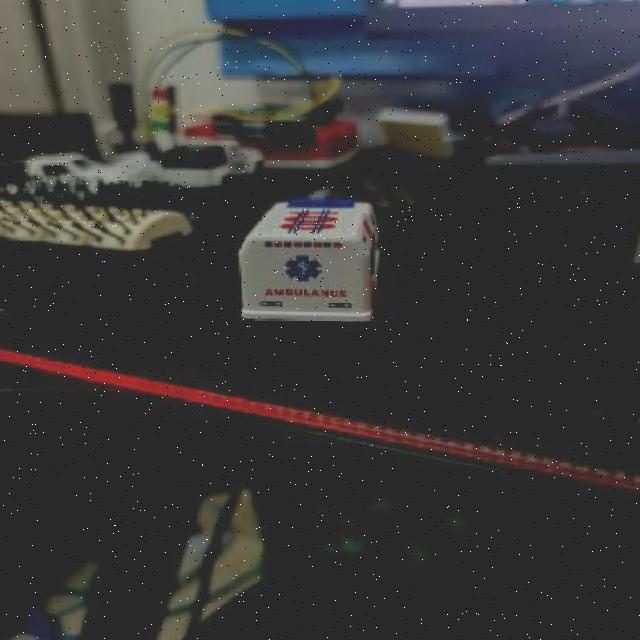car: (231, 188, 386, 329), (0, 150, 149, 203), (154, 140, 269, 195)
